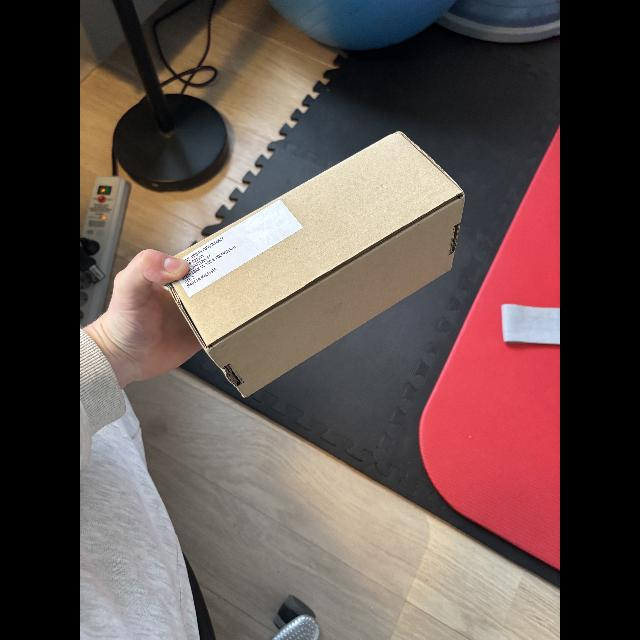Cardboard: (161, 125, 461, 403)
